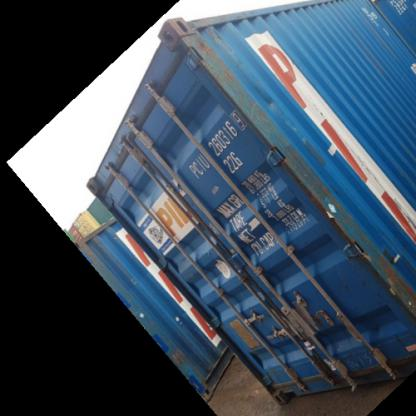Damage: (338, 210, 412, 304), (163, 22, 232, 91), (278, 146, 342, 210), (230, 82, 281, 141), (341, 336, 374, 379)
